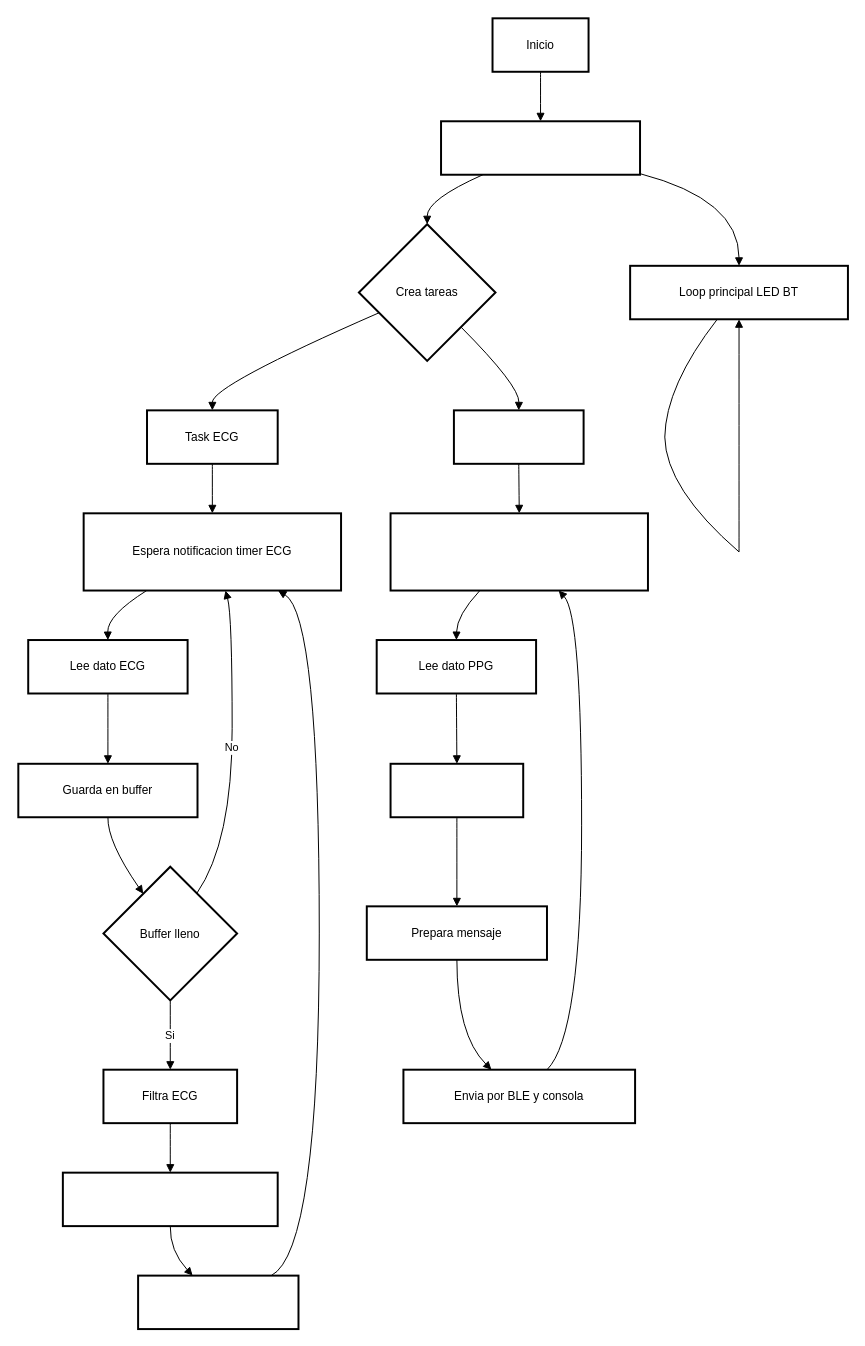
This 865x1346 diagram has some shape labels left out. The shapes that lost their labels are listed below. From the top down, each one's centre as x and y in pixels, then its label:
pixel 540 147: Inicializa Perifericos
pixel 518 436: Task PPG
pixel 518 551: Espera notificacion timer PPG
pixel 456 790: Filtra PPG
pixel 169 1199: Prepara mensaje BLE
pixel 218 1302: Envia por BLE
